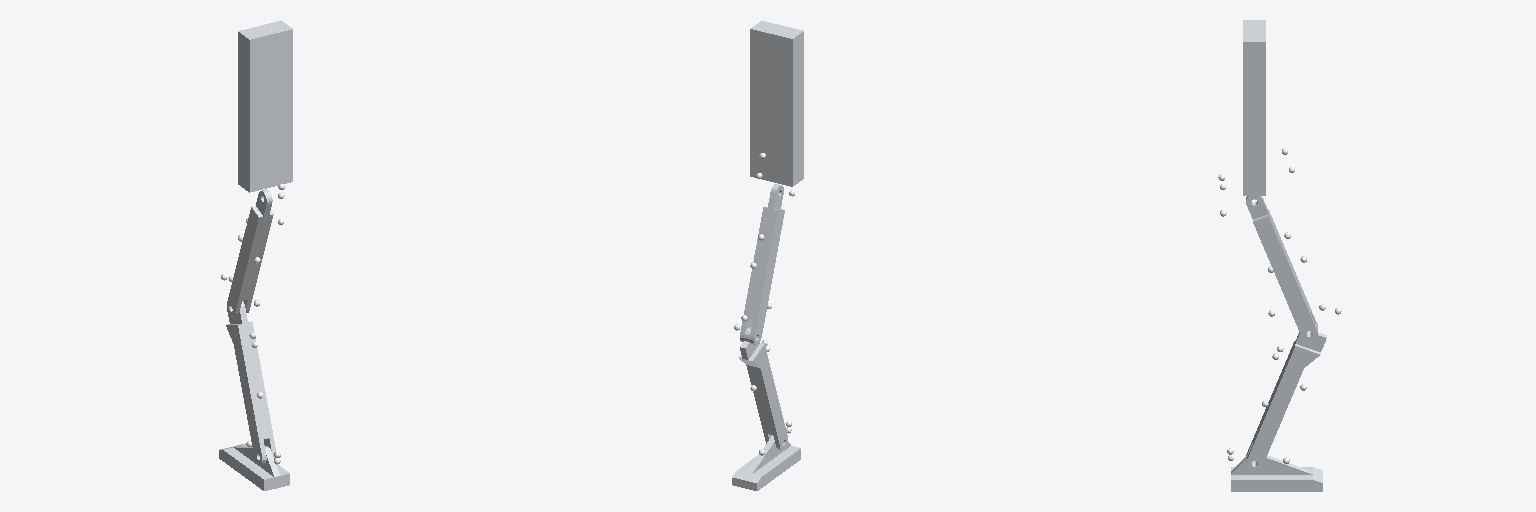
robot.urdf — hopper:
<?xml version="1.0" encoding="utf-8"?>
<!-- This URDF was automatically created by SolidWorks to URDF Exporter! Originally created by [author] ([email redacted])  Commit Version: 1.6.0-4-g7f85cfe Build Version: 1.6.7995.38578 For more information, please see http://wiki.ros.org/sw_urdf_exporter -->
<robot name="hopper">
  <link name="pelvis">
    <inertial>
      <origin xyz="0.0 0.02 0.3" rpy="0 0 0" />
      <mass value="15" />
      <inertia ixx="0.052666" ixy="0" ixz="0.0034676" iyy="0.071815" iyz="0" izz="0.11746" />
    </inertial>
    <visual>
      <origin xyz="0.0 0.02 0.3" rpy="0 0 0" />
      <geometry>
        <box size="0.15 0.07 0.5"/>
      </geometry>
      <material name="">
        <color rgba="0.89804 0.91765 0.92941 1" />
      </material>
    </visual>
    <collision>
      <origin xyz="0.0 0.02 0.1" rpy="0 0 0" />
      <geometry>
        <box size="0.15 0.1 0.1"/>
      </geometry>
    </collision>
  </link>
  <link name="femur">
    <inertial>
      <origin xyz="0.0 0.0 0.0" rpy="0 0 0" />
      <mass value="4" />
      <inertia ixx="0.043371" ixy="0" ixz="0" iyy="0.03793" iyz="0.014142" izz="0.0066034" />
    </inertial>
    <visual>
      <origin xyz="0.0 0.0 0.0" rpy="0 0 0" />
      <geometry>
        <mesh filename="../meshes/femur.STL" />
      </geometry>
      <material name="">
        <color rgba="0.89804 0.91765 0.92941 1" />
      </material>
    </visual>
  </link>
  <link name="tibia">
    <inertial>
      <origin xyz="0.0 0.0 0.0" rpy="0 0 0" />
      <mass value="1.9" />
      <inertia ixx="0.049785" ixy="0" ixz="0" iyy="0.042507" iyz="-0.017043" izz="0.0084955" />
    </inertial>
    <visual>
      <origin xyz="0.0 0.0 0.0" rpy="0 0 0" />
      <geometry>
        <mesh filename="../meshes/tibia.STL" />
      </geometry>
      <material name="">
        <color rgba="0.89804 0.91765 0.92941 1" />
      </material>
    </visual>
  </link>
  <link name="foot">
    <inertial>
      <origin xyz="0.0 0.0 0.0" rpy="0 0 0" />
      <mass value="0.6" />
      <inertia ixx="0.017181" ixy="0" ixz="0" iyy="0.0027601" iyz="0.00064537" izz="0.017764" />
    </inertial>
    <visual>
      <origin xyz="0.0 0.0 0.0" rpy="0 0 0" />
      <geometry>
        <mesh filename="../meshes/foot.STL" />
      </geometry>
      <material name="">
        <color rgba="0.89804 0.91765 0.92941 1" />
      </material>
    </visual>
    <collision>
      <origin xyz="0.0 0.2 -0.05" rpy="1.57 0 1.57" />
      <geometry>
        <cylinder radius="0.03" length="1.2"/>
      </geometry>
    </collision>
    <collision>
      <origin xyz="0.0 -0.1 -0.05" rpy="1.57 0 1.57" />
      <geometry>
        <cylinder radius="0.03" length="1.2"/>
      </geometry>
    </collision>
  </link>
  <link name="soleus_b">
    <visual>
      <origin xyz="0 0 0" rpy="0 0 0" />
      <geometry>
        <sphere radius="0.01"/>
      </geometry>
      <material name="">
        <color rgba="1 1 1 1" />
      </material>
    </visual>
  </link>
  <joint name="soleus_b" type="fixed">
    <origin xyz="0 -0.068834 0.0077416" rpy="0 0 0" />
    <parent link="foot" />
    <child link="soleus_b" />
    <axis xyz="0 0 0" />
  </joint>
  <link name="tibialis_anterior_b">
    <visual>
      <origin xyz="0 0 0" rpy="0 0 0" />
      <geometry>
        <sphere radius="0.01"/>
      </geometry>
      <material name="">
        <color rgba="1 1 1 1" />
      </material>
    </visual>
  </link>
  <joint name="tibialis_anterior_b" type="fixed">
    <origin xyz="0 0.093653 -0.0016872" rpy="0 0 0" />
    <parent link="foot" />
    <child link="tibialis_anterior_b" />
    <axis xyz="0 0 0" />
  </joint>
  <link name="gastrocnemius_b">
    <visual>
      <origin xyz="0 0 0" rpy="0 0 0" />
      <geometry>
        <sphere radius="0.01"/>
      </geometry>
      <material name="">
        <color rgba="1 1 1 1" />
      </material>
    </visual>
  </link>
  <joint name="gastrocnemius_b" type="fixed">
    <origin xyz="0 -0.070718 0.029013" rpy="0 0 0" />
    <parent link="foot" />
    <child link="gastrocnemius_b" />
    <axis xyz="0 0 0" />
  </joint>
  <link name="rectus_femoris_b">
    <visual>
      <origin xyz="0 0 0" rpy="0 0 0" />
      <geometry>
        <sphere radius="0.01"/>
      </geometry>
      <material name="">
        <color rgba="1 1 1 1" />
      </material>
    </visual>
  </link>
  <joint name="rectus_femoris_b" type="fixed">
    <origin xyz="0 0.083993 0.063018" rpy="0 0 0" />
    <parent link="tibia" />
    <child link="rectus_femoris_b" />
    <axis xyz="0 0 0" />
  </joint>
  <link name="biceps_femoris_long_b">
    <visual>
      <origin xyz="0 0 0" rpy="0 0 0" />
      <geometry>
        <sphere radius="0.01"/>
      </geometry>
      <material name="">
        <color rgba="1 1 1 1" />
      </material>
    </visual>
  </link>
  <joint name="biceps_femoris_long_b" type="fixed">
    <origin xyz="0 -0.09911 -0.084823" rpy="0 0 0" />
    <parent link="tibia" />
    <child link="biceps_femoris_long_b" />
    <axis xyz="0 0 0" />
  </joint>
  <link name="vastus_intermedius_b">
    <visual>
      <origin xyz="0 0 0" rpy="0 0 0" />
      <geometry>
        <sphere radius="0.01"/>
      </geometry>
      <material name="">
        <color rgba="1 1 1 1" />
      </material>
    </visual>
  </link>
  <joint name="vastus_intermedius_b" type="fixed">
    <origin xyz="0 0.038351 0.075621" rpy="0 0 0" />
    <parent link="tibia" />
    <child link="vastus_intermedius_b" />
    <axis xyz="0 0 0" />
  </joint>
  <link name="biceps_femoris_short_b">
    <visual>
      <origin xyz="0 0 0" rpy="0 0 0" />
      <geometry>
        <sphere radius="0.01"/>
      </geometry>
      <material name="">
        <color rgba="1 1 1 1" />
      </material>
    </visual>
  </link>
  <joint name="biceps_femoris_short_b" type="fixed">
    <origin xyz="0 -0.085983 -0.059535" rpy="0 0 0" />
    <parent link="tibia" />
    <child link="biceps_femoris_short_b" />
    <axis xyz="0 0 0" />
  </joint>
  <link name="soleus_a">
    <visual>
      <origin xyz="0 0 0" rpy="0 0 0" />
      <geometry>
        <sphere radius="0.01"/>
      </geometry>
      <material name="">
        <color rgba="1 1 1 1" />
      </material>
    </visual>
  </link>
  <joint name="soleus_a" type="fixed">
    <origin xyz="0 -0.13 -0.23741" rpy="0 0 0" />
    <parent link="tibia" />
    <child link="soleus_a" />
    <axis xyz="0 0 0" />
  </joint>
  <link name="tibialis_anterior_a">
    <visual>
      <origin xyz="0 0 0" rpy="0 0 0" />
      <geometry>
        <sphere radius="0.01"/>
      </geometry>
      <material name="">
        <color rgba="1 1 1 1" />
      </material>
    </visual>
  </link>
  <joint name="tibialis_anterior_a" type="fixed">
    <origin xyz="0 -0.017455 -0.1839" rpy="0 0 0" />
    <parent link="tibia" />
    <child link="tibialis_anterior_a" />
    <axis xyz="0 0 0" />
  </joint>
  <link name="psoas_major_b">
    <visual>
      <origin xyz="0 0 0" rpy="0 0 0" />
      <geometry>
        <sphere radius="0.01"/>
      </geometry>
      <material name="">
        <color rgba="1 1 1 1" />
      </material>
    </visual>
  </link>
  <joint name="psoas_major_b" type="fixed">
    <origin xyz="0 0.09741 -0.112798" rpy="0 0 0" />
    <parent link="femur" />
    <child link="psoas_major_b" />
    <axis xyz="0 0 0" />
  </joint>
  <link name="gluteus_maximus_b">
    <visual>
      <origin xyz="0 0 0" rpy="0 0 0" />
      <geometry>
        <sphere radius="0.01"/>
      </geometry>
      <material name="">
        <color rgba="1 1 1 1" />
      </material>
    </visual>
  </link>
  <joint name="gluteus_maximus_b" type="fixed">
    <origin xyz="0 -0.0927816 0.045594" rpy="0 0 0" />
    <parent link="femur" />
    <child link="gluteus_maximus_b" />
    <axis xyz="0 0 0" />
  </joint>
  <link name="vastus_intermedius_a">
    <visual>
      <origin xyz="0 0 0" rpy="0 0 0" />
      <geometry>
        <sphere radius="0.01"/>
      </geometry>
      <material name="">
        <color rgba="1 1 1 1" />
      </material>
    </visual>
  </link>
  <joint name="vastus_intermedius_a" type="fixed">
    <origin xyz="0 0.14477 -0.18901" rpy="0 0 0" />
    <parent link="femur" />
    <child link="vastus_intermedius_a" />
    <axis xyz="0 0 0" />
  </joint>
  <link name="biceps_femoris_short_a">
    <visual>
      <origin xyz="0 0 0" rpy="0 0 0" />
      <geometry>
        <sphere radius="0.01"/>
      </geometry>
      <material name="">
        <color rgba="1 1 1 1" />
      </material>
    </visual>
  </link>
  <joint name="biceps_femoris_short_a" type="fixed">
    <origin xyz="0 0.048915 -0.22262" rpy="0 0 0" />
    <parent link="femur" />
    <child link="biceps_femoris_short_a" />
    <axis xyz="0 0 0" />
  </joint>
  <link name="gastrocnemius_a">
    <visual>
      <origin xyz="0 0 0" rpy="0 0 0" />
      <geometry>
        <sphere radius="0.01"/>
      </geometry>
      <material name="">
        <color rgba="1 1 1 1" />
      </material>
    </visual>
  </link>
  <joint name="gastrocnemius_a" type="fixed">
    <origin xyz="0 0.05071 -0.36415" rpy="0 0 0" />
    <parent link="femur" />
    <child link="gastrocnemius_a" />
    <axis xyz="0 0 0" />
  </joint>
  <link name="rectus_femoris_a">
    <visual>
      <origin xyz="0 0 0" rpy="0 0 0" />
      <geometry>
        <sphere radius="0.01"/>
      </geometry>
      <material name="">
        <color rgba="1 1 1 1" />
      </material>
    </visual>
  </link>
  <joint name="rectus_femoris_a" type="fixed">
    <origin xyz="0.0 0.13 0.10077" rpy="0 0 0" />
    <parent link="pelvis" />
    <child link="rectus_femoris_a" />
    <axis xyz="0 0 0" />
  </joint>
  <link name="psoas_major_a">
    <visual>
      <origin xyz="0 0 0" rpy="0 0 0" />
      <geometry>
        <sphere radius="0.01"/>
      </geometry>
      <material name="">
        <color rgba="1 1 1 1" />
      </material>
    </visual>
  </link>
  <joint name="psoas_major_a" type="fixed">
    <origin xyz="0.0 0.1092 0.15986" rpy="0 0 0" />
    <parent link="pelvis" />
    <child link="psoas_major_a" />
    <axis xyz="0 0 0" />
  </joint>
  <link name="gluteus_maximus_a">
    <visual>
      <origin xyz="0 0 0" rpy="0 0 0" />
      <geometry>
        <sphere radius="0.01"/>
      </geometry>
      <material name="">
        <color rgba="1 1 1 1" />
      </material>
    </visual>
  </link>
  <joint name="gluteus_maximus_a" type="fixed">
    <origin xyz="0.0 -0.075976 0.0758" rpy="0 0 0" />
    <parent link="pelvis" />
    <child link="gluteus_maximus_a" />
    <axis xyz="0 0 0" />
  </joint>
  <link name="biceps_femoris_long_a">
    <visual>
      <origin xyz="0 0 0" rpy="0 0 0" />
      <geometry>
        <sphere radius="0.01"/>
      </geometry>
      <material name="">
        <color rgba="1 1 1 1" />
      </material>
    </visual>
  </link>
  <joint name="biceps_femoris_long_a" type="fixed">
    <origin xyz="0.0 -0.072035 -0.03986" rpy="0 0 0" />
    <parent link="pelvis" />
    <child link="biceps_femoris_long_a" />
    <axis xyz="0 0 0" />
  </joint>


  <joint name="hipjoint" type="revolute">
    <origin xyz="0.0 0.02 0.0" rpy="0 0 0" />
    <parent link="pelvis" />
    <child link="femur" />
    <axis xyz="-1 0 0" />
    <limit lower="-1.1" upper="1.5" effort="100" velocity="10" />
  </joint>
  <joint name="kneejoint" type="revolute">
    <origin xyz="0 0.16155 -0.42" rpy="0 0 0" />
    <parent link="femur" />
    <child link="tibia" />
    <axis xyz="-1 0 0" />
    <limit lower="-0.7" upper="2.0" effort="100" velocity="10" />
  </joint>
  <joint name="anklejoint" type="revolute">
    <origin xyz="0 -0.16155 -0.42" rpy="0 0 0" />
    <parent link="tibia" />
    <child link="foot" />
    <axis xyz="-1 0 0" />
    <limit lower="-1.2" upper="1.7" effort="100" velocity="10" />
  </joint>
</robot>

--- Render facts (derived) ---
3 views of the same robot in one strip: view 1: azimuth 30°, elevation 25°; view 2: azimuth 150°, elevation 25°; view 3: azimuth 270°, elevation 25° (orthographic).
Robot: hopper — 22 links, 21 joints (3 revolute, 18 fixed); root link pelvis; default pose: all joints at 0.
Links seen in each view (by area): view 1: pelvis, tibia, femur, foot; view 2: pelvis, femur, tibia, foot; view 3: pelvis, tibia, femur, foot.
Boxes of the visible links, left/top/right/bottom form: pelvis: left=238, top=20, right=292, bottom=192; tibia: left=226, top=301, right=275, bottom=464; femur: left=227, top=189, right=273, bottom=316; foot: left=219, top=444, right=289, bottom=490; pelvis: left=750, top=21, right=803, bottom=186; femur: left=740, top=184, right=784, bottom=345; tibia: left=739, top=327, right=787, bottom=449; foot: left=732, top=435, right=800, bottom=490; pelvis: left=1243, top=20, right=1265, bottom=195; tibia: left=1246, top=324, right=1326, bottom=471; femur: left=1246, top=196, right=1317, bottom=341; foot: left=1231, top=454, right=1322, bottom=491.
Size in the robot's own frame: 0.15 by 0.3615 by 1.47 metres.
3 mesh visuals loaded from 3 distinct referenced files (3 binary STL).
